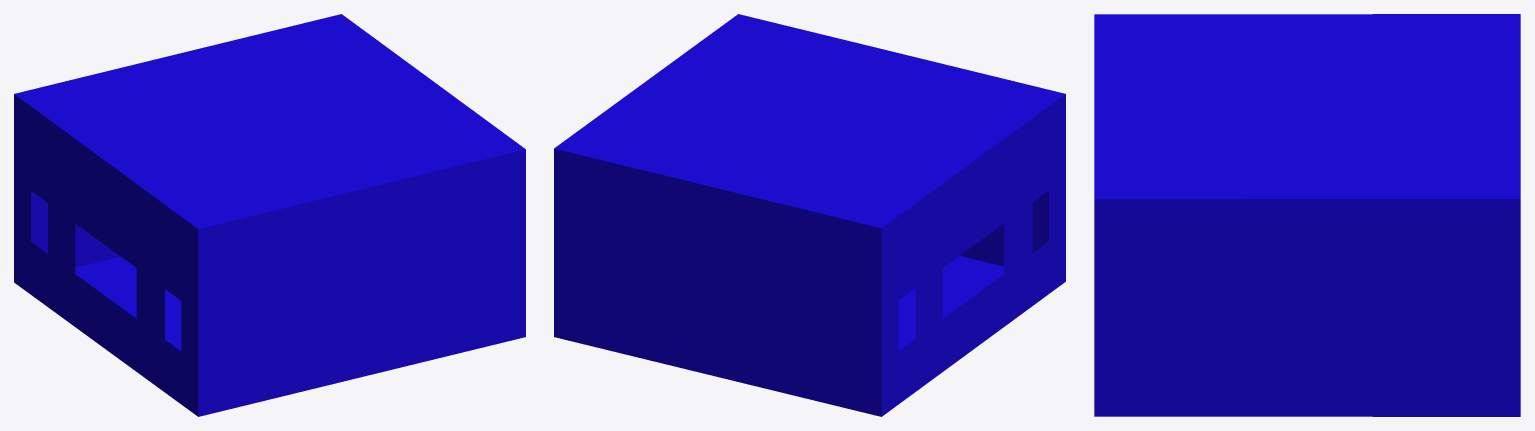
The model's file is Room_Blocker.fbx.
3 renders of one model, left to right at view 1: azimuth 30°, elevation 25°; view 2: azimuth 150°, elevation 25°; view 3: azimuth 270°, elevation 25°, orthographic. The views are drawn at different scales.
Visible parts, largest first — view 1: Room.001; view 2: Room.001; view 3: Room.001.
Boxes of the visible parts, box(x1,y1,x2,y2) form: Room.001: box(14, 14, 525, 416); Room.001: box(554, 14, 1065, 416); Room.001: box(1094, 14, 1520, 416).
Bounding box in the file's own units: 1095 × 602 × 1067.
